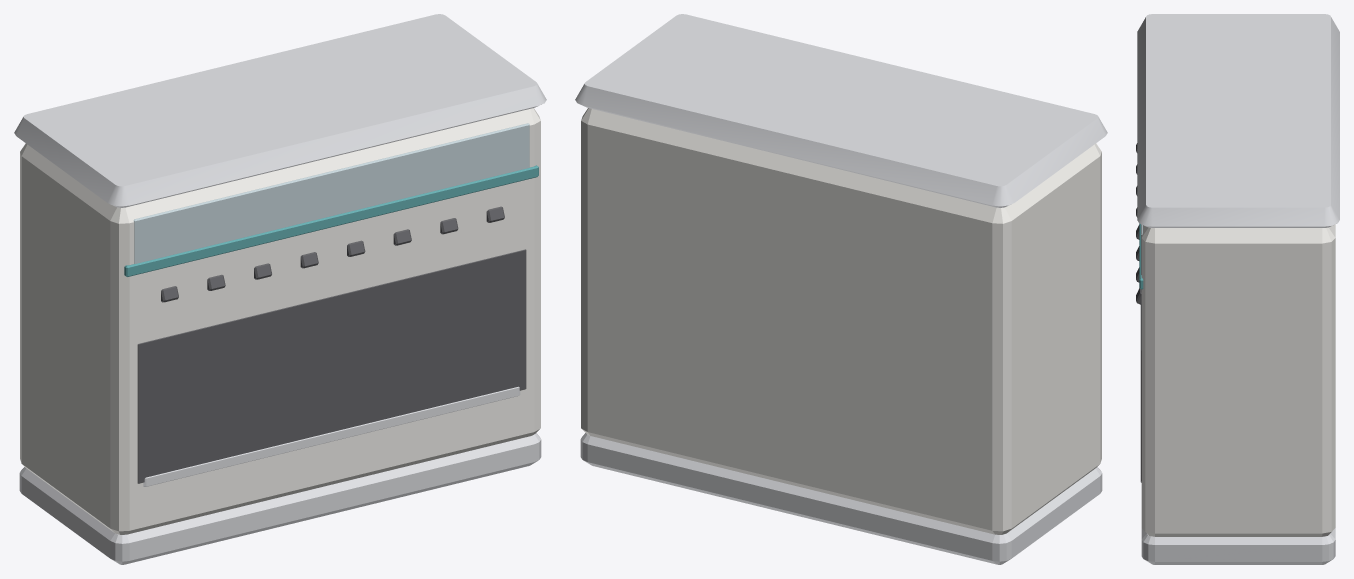
The model's file is fast-food-and-drive-thru-drinks-tower-self-serve-8-d390ecfa__16151.glb.
3 renders of one model, left to right at view 1: azimuth 30°, elevation 25°; view 2: azimuth 150°, elevation 25°; view 3: azimuth 270°, elevation 25°, orthographic. The views are drawn at different scales.
Parts seen in each view (by area): view 1: drinks-tower-self-serve-8; view 2: drinks-tower-self-serve-8; view 3: drinks-tower-self-serve-8.
Part boxes in pixels (box(x1,y1,x2,y2)): drinks-tower-self-serve-8: box(14, 14, 546, 564); drinks-tower-self-serve-8: box(575, 14, 1107, 564); drinks-tower-self-serve-8: box(1136, 14, 1339, 564).
Size of the model in its own units: 1.08 by 0.9 by 0.4626.
